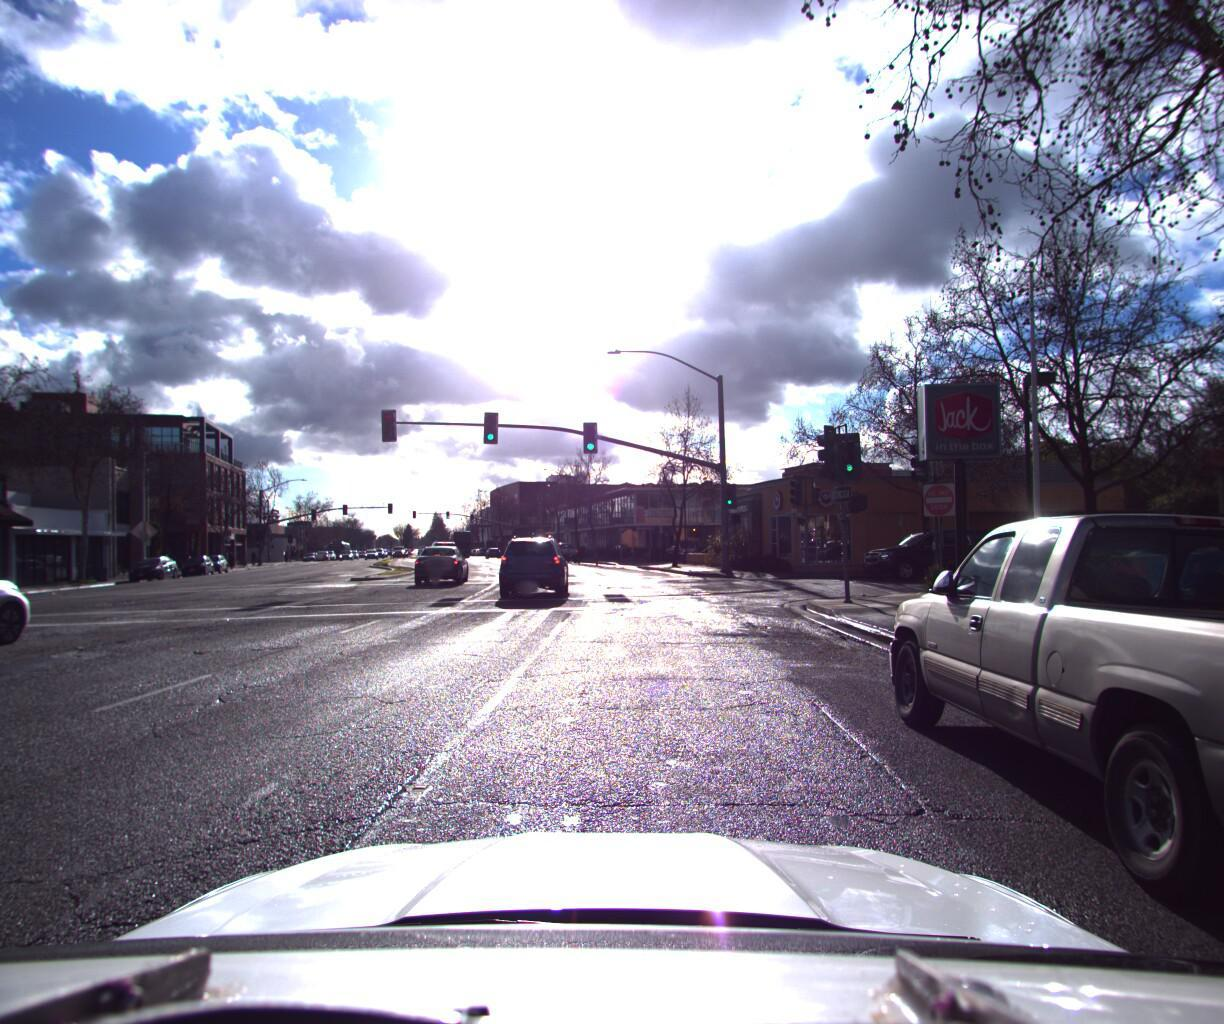car: (862, 455, 1224, 1024), (851, 522, 1016, 577), (0, 543, 58, 684), (491, 534, 568, 599), (400, 543, 466, 586), (124, 549, 184, 580), (176, 548, 220, 573), (660, 530, 698, 554), (548, 534, 578, 556)
